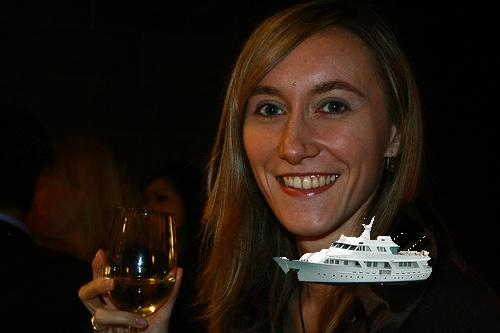tampered: (274, 217, 432, 286)
